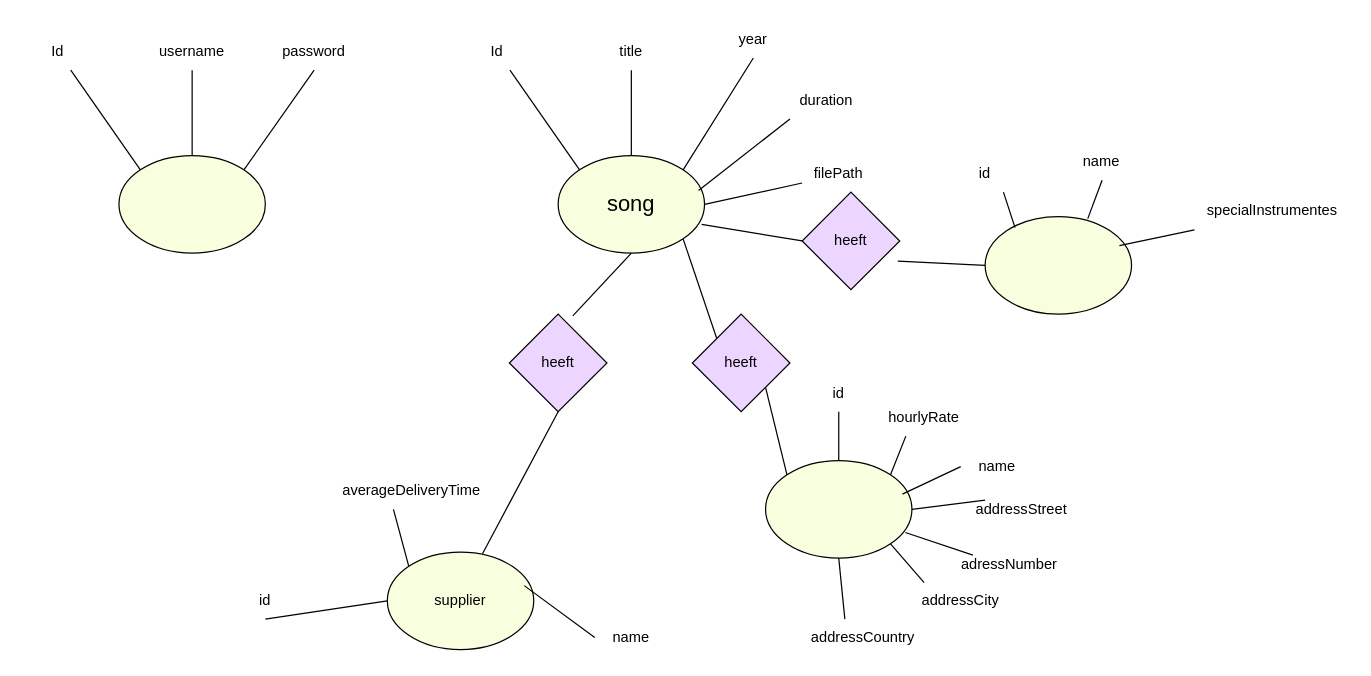
Image size: 1371x676. Some labels were removed from this diagram. Each missing label, with the box of its shape:
band: (984, 215, 1132, 314)
managerId: (764, 459, 912, 558)
user: (118, 154, 265, 253)
